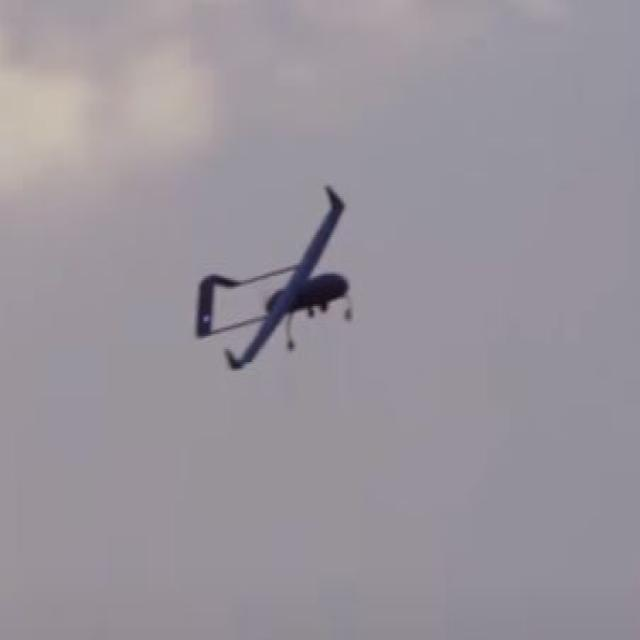iha: (194, 181, 354, 374)
